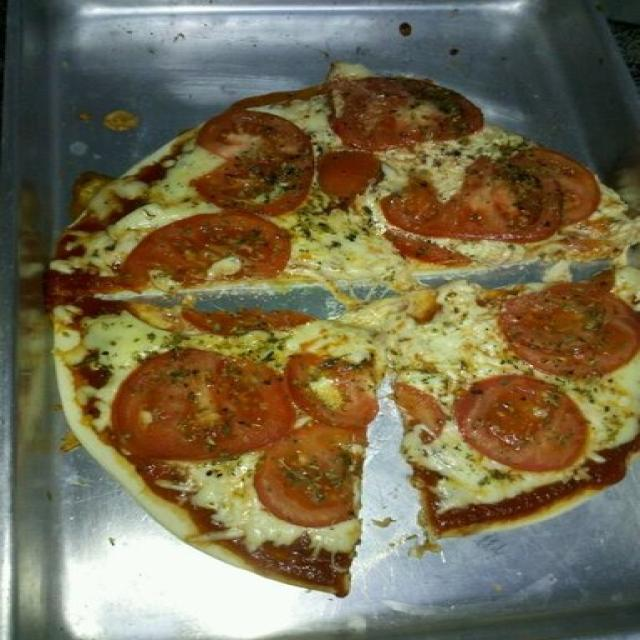Pizza: (37, 263, 640, 597), (54, 76, 640, 289)
Tomato: (121, 349, 285, 453), (402, 154, 596, 227), (509, 278, 633, 371), (464, 381, 580, 470), (121, 220, 282, 280), (204, 121, 304, 213), (331, 80, 476, 139), (266, 426, 352, 518), (281, 356, 370, 424), (386, 234, 469, 268), (322, 150, 376, 200), (396, 384, 441, 441)
